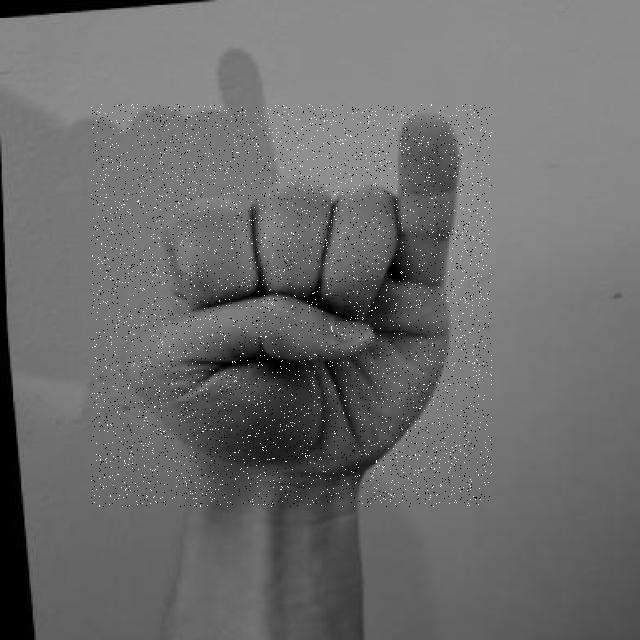I: (91, 104, 492, 507)
